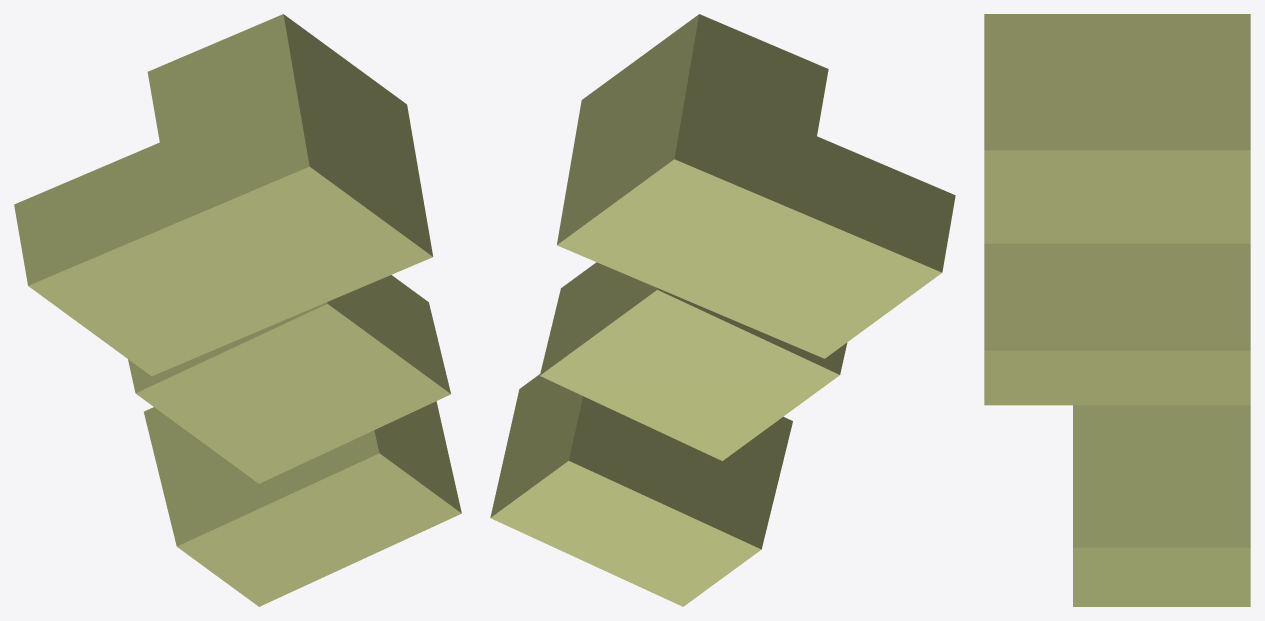
The picture shows the model from 3 angles, left to right: view 1: azimuth 30°, elevation 25°; view 2: azimuth 150°, elevation 25°; view 3: azimuth 270°, elevation 25°; orthographic projection. The views are drawn at different scales.
Visible parts, largest first — view 1: 0_1_2_0_3_3_0_3_1_2; view 2: 0_1_2_0_3_3_0_3_1_2; view 3: 0_1_2_0_3_3_0_3_1_2.
Boxes of the visible parts, box(x1,y1,x2,y2) form: 0_1_2_0_3_3_0_3_1_2: box(14, 14, 461, 606); 0_1_2_0_3_3_0_3_1_2: box(490, 14, 955, 606); 0_1_2_0_3_3_0_3_1_2: box(984, 14, 1250, 606).
Bounding box in the file's own units: 15.36 × 20.35 × 9.
